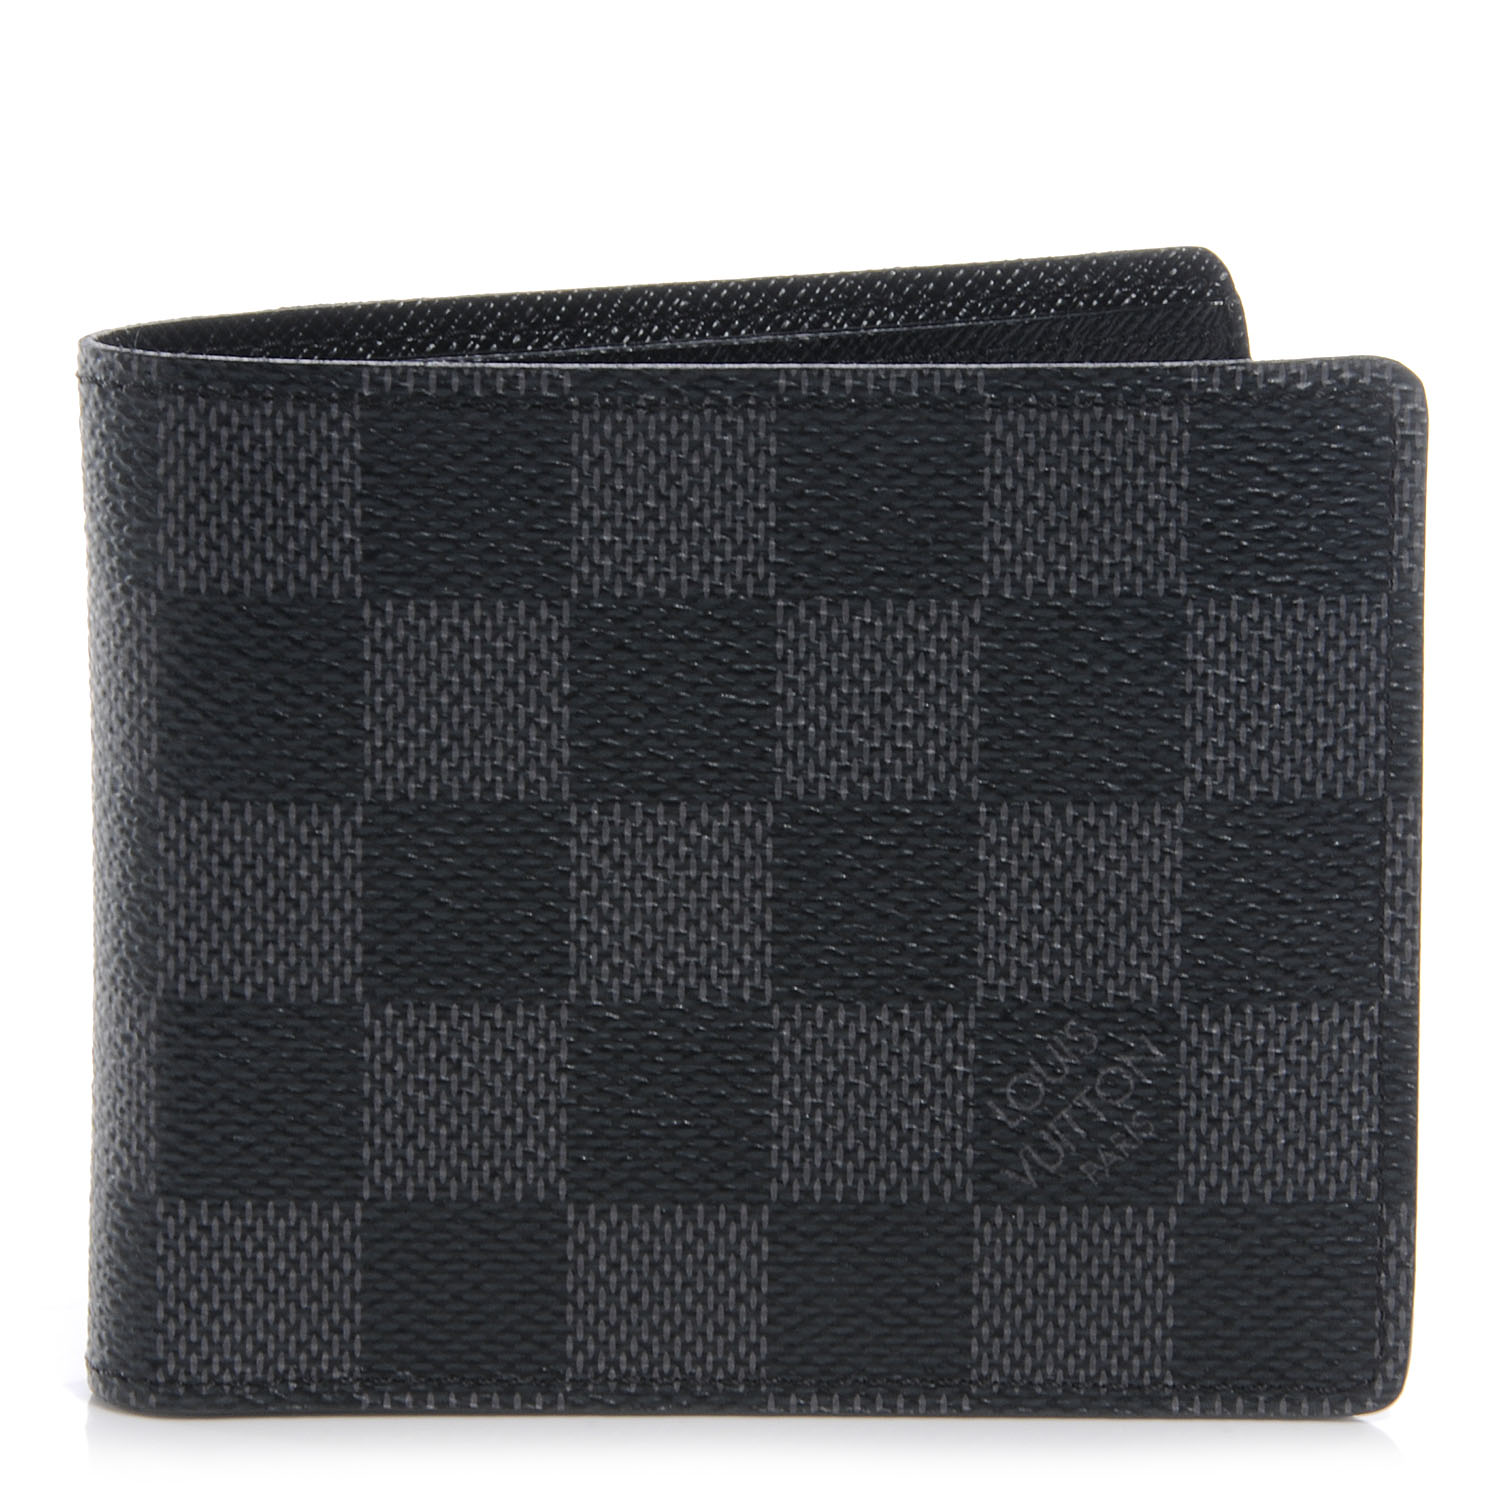monedero: (62, 238, 1440, 1429)
